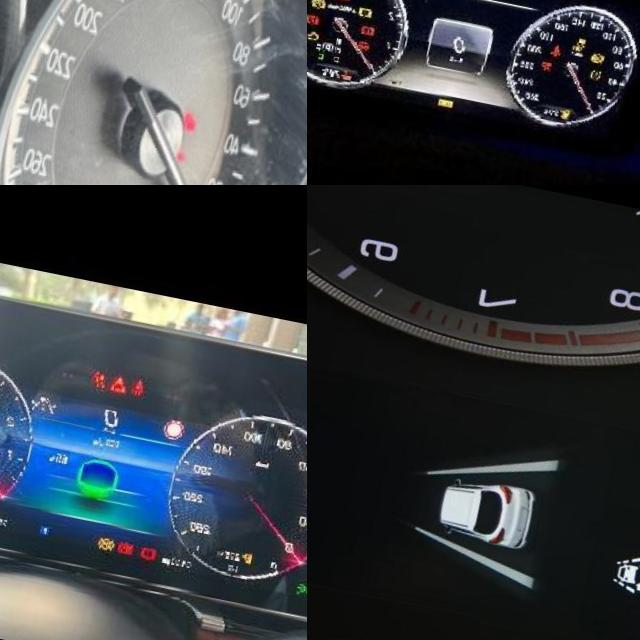Engine cooling system: (354, 61, 368, 72)
Low fuel level: (576, 91, 585, 101)
Seat Belt: (142, 366, 158, 383)
